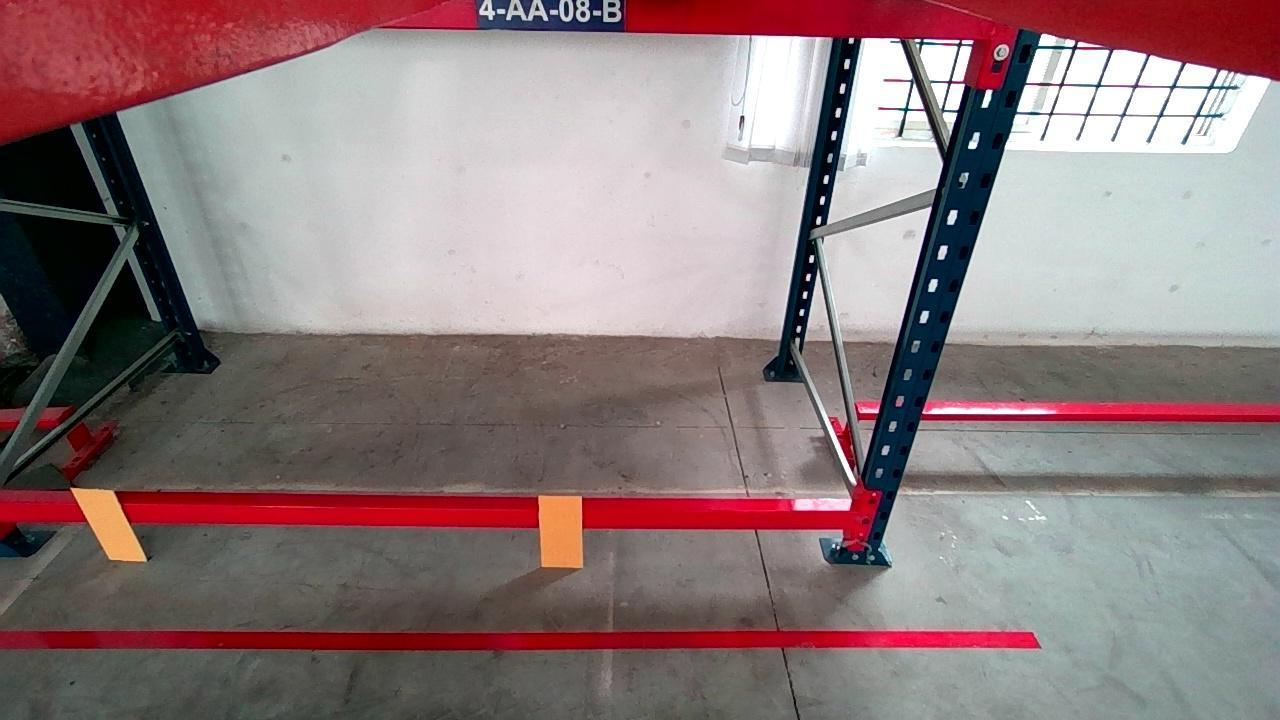h_rack: (0, 498, 865, 529), (383, 0, 1017, 41)
orange_strip: (71, 487, 150, 563), (538, 492, 584, 567)
red_line: (0, 627, 1041, 650)
